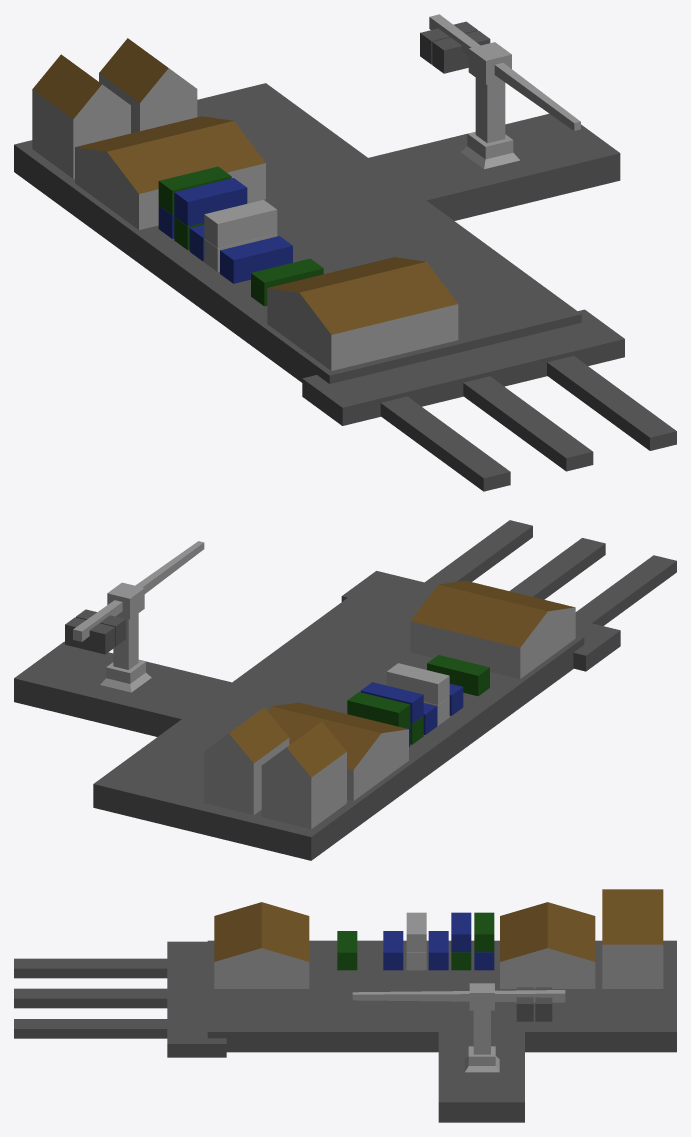
File: Port1.dae
3 renders of one model, top to bottom at view 1: azimuth 30°, elevation 25°; view 2: azimuth 150°, elevation 25°; view 3: azimuth 270°, elevation 25°, orthographic. The views are drawn at different scales.
Parts seen in each view (by area): view 1: Port1; view 2: Port1; view 3: Port1.
Part boxes in pixels (x1=…): Port1: x1=14, y1=14, x2=676, y2=491; Port1: x1=14, y1=520, x2=676, y2=860; Port1: x1=14, y1=889, x2=676, y2=1122.
Size of the model in its own units: 10.69 by 17.95 by 2.93.
